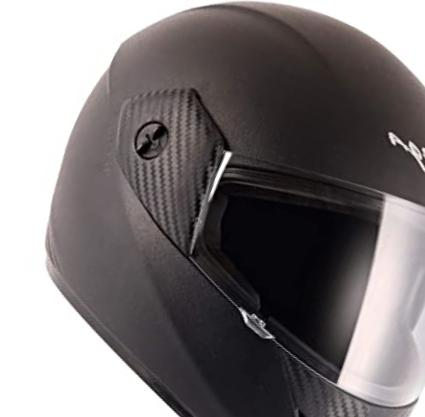helmet: (17, 1, 425, 416)
